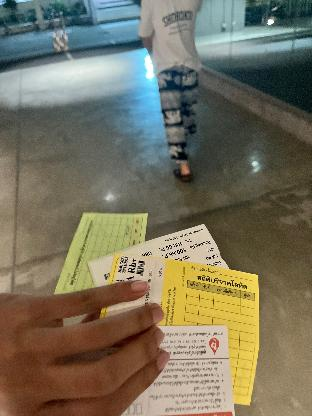Paper: (156, 258, 264, 406), (88, 220, 229, 314), (116, 318, 232, 416), (54, 203, 152, 308)
